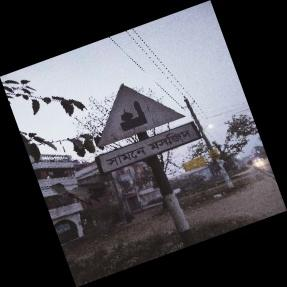Mosque in front: (94, 83, 197, 178)
